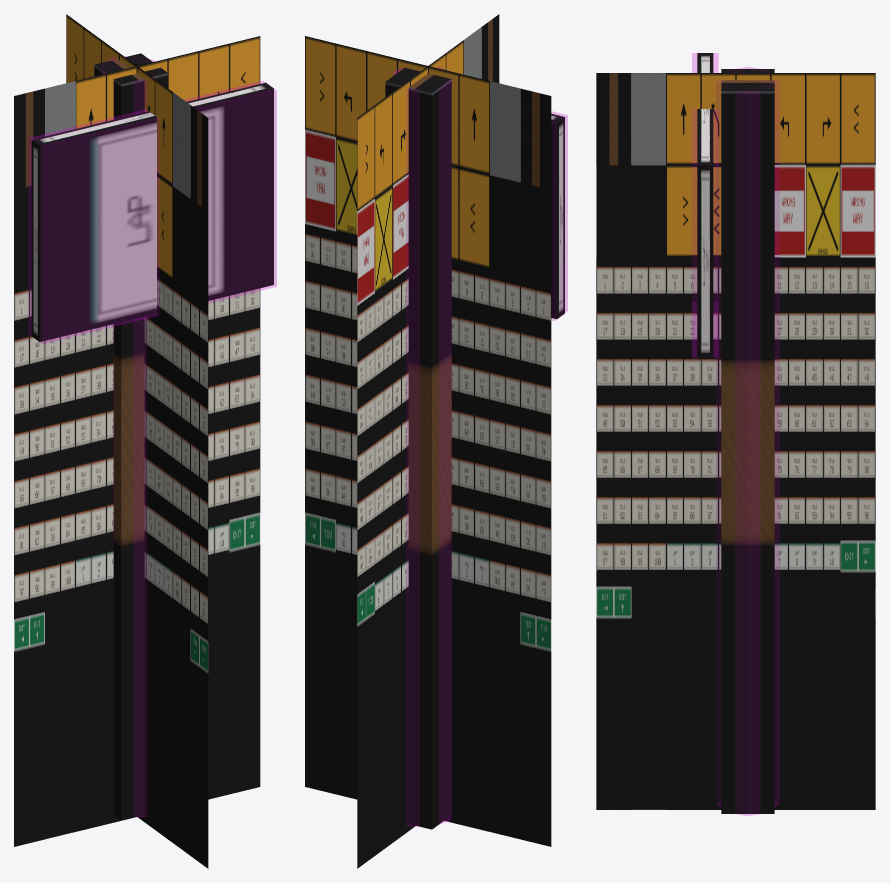
The model's file is lapsign_02.dae.
3 views of the same model, side by side, from view 1: azimuth 30°, elevation 25°; view 2: azimuth 150°, elevation 25°; view 3: azimuth 270°, elevation 25° (orthographic).
Visible parts, largest first — view 1: lapsign_02_a50, lapsign_02_a800, Colmesh_sign-1, lapsign_02_a200, Colmesh_post-1; view 2: lapsign_02_a50, lapsign_02_a800, Colmesh_post-1, lapsign_02_a200, Colmesh_sign-1; view 3: lapsign_02_a50, lapsign_02_a800, Colmesh_post-1, Colmesh_sign-1.
Boxes of the visible parts, x1=… form: lapsign_02_a50: x1=14, y1=14, x2=260, y2=868; lapsign_02_a800: x1=31, y1=53, x2=273, y2=820; Colmesh_sign-1: x1=29, y1=81, x2=276, y2=343; lapsign_02_a200: x1=113, y1=57, x2=166, y2=816; Colmesh_post-1: x1=102, y1=56, x2=155, y2=817; lapsign_02_a50: x1=305, y1=14, x2=551, y2=868; lapsign_02_a800: x1=385, y1=68, x2=564, y2=829; Colmesh_post-1: x1=393, y1=65, x2=451, y2=826; lapsign_02_a200: x1=408, y1=69, x2=451, y2=827; Colmesh_sign-1: x1=551, y1=111, x2=567, y2=320; lapsign_02_a50: x1=596, y1=73, x2=875, y2=809; lapsign_02_a800: x1=697, y1=53, x2=774, y2=813; Colmesh_post-1: x1=716, y1=67, x2=779, y2=815; Colmesh_sign-1: x1=692, y1=53, x2=718, y2=357.
Bounding box in the file's own units: 0.525 × 0.525 × 1.53.
Materials: 2 (1 with a texture image).
